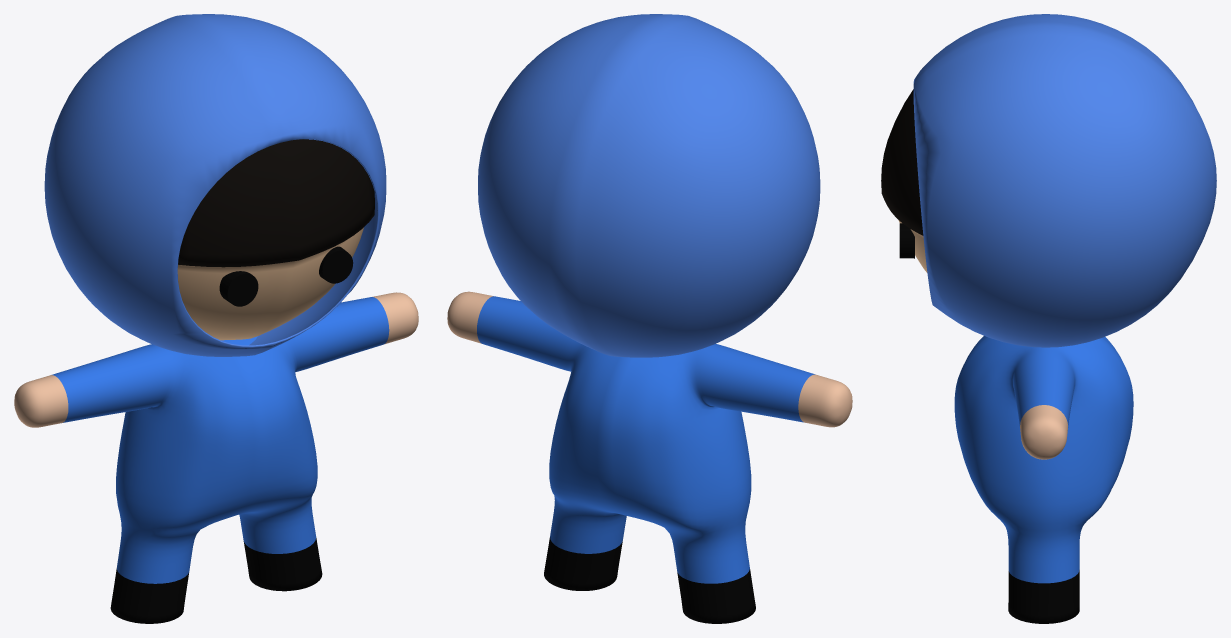
The model's file is astronaut.fbx.
3 views of the same model, side by side, from view 1: azimuth 30°, elevation 25°; view 2: azimuth 150°, elevation 25°; view 3: azimuth 270°, elevation 25° (orthographic). The views are drawn at different scales.
Parts seen in each view (by area): view 1: Hood, Body, Head, Eye; view 2: Hood, Body; view 3: Hood, Body, Head, Eye.
Part boxes in pixels (x1=…): Hood: x1=44, y1=14, x2=386, y2=356; Body: x1=14, y1=292, x2=418, y2=623; Head: x1=177, y1=139, x2=374, y2=340; Eye: x1=219, y1=246, x2=353, y2=306; Hood: x1=478, y1=14, x2=820, y2=357; Body: x1=447, y1=291, x2=852, y2=623; Hood: x1=913, y1=14, x2=1216, y2=347; Body: x1=954, y1=336, x2=1133, y2=623; Head: x1=881, y1=89, x2=927, y2=272; Eye: x1=899, y1=223, x2=914, y2=258.
Bounding box in the file's own units: 209 × 285 × 157.
